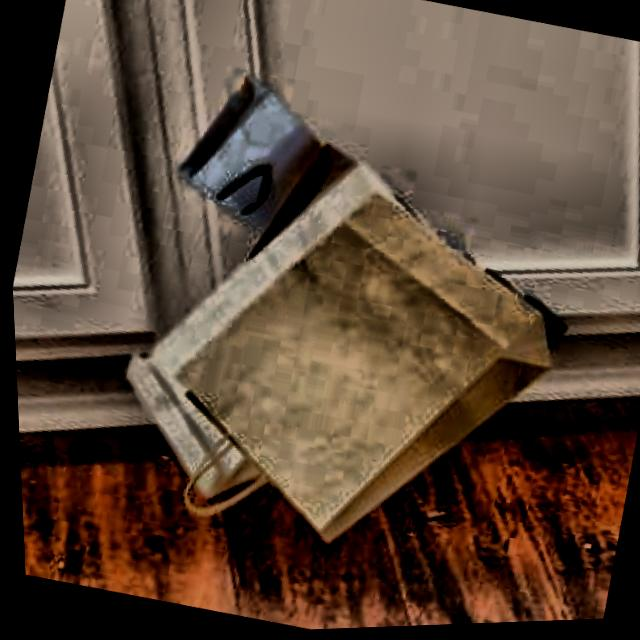Paper-bag: (92, 113, 600, 599)
